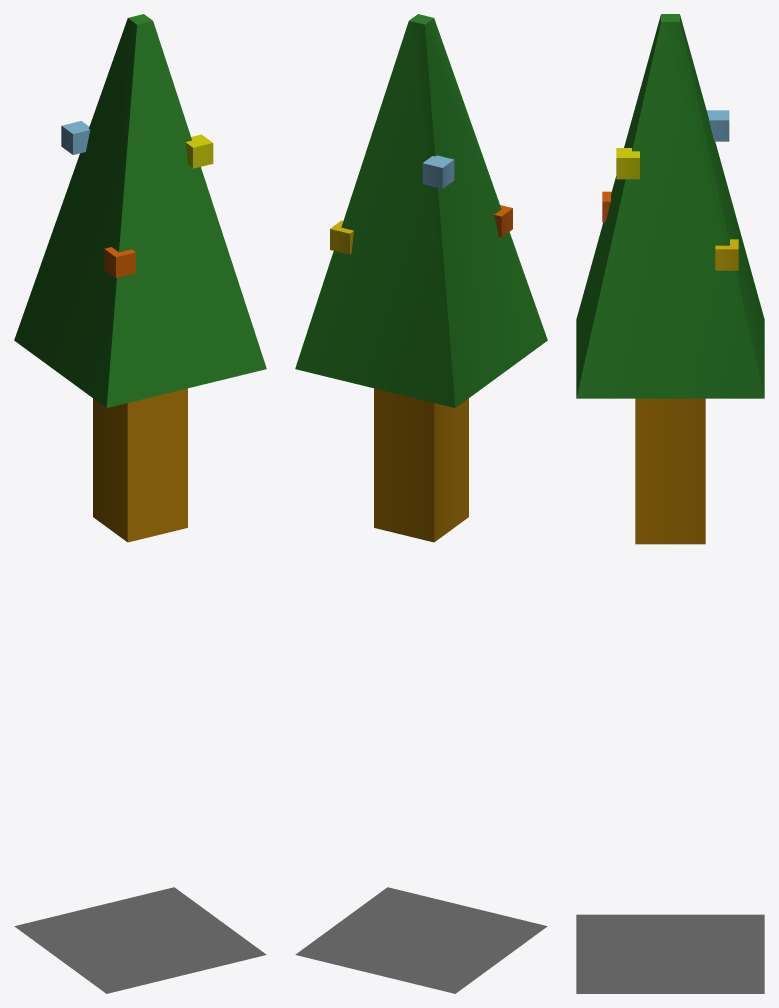
Rendered from pine-tree.glb.
3 renders of one model, left to right at view 1: azimuth 30°, elevation 25°; view 2: azimuth 150°, elevation 25°; view 3: azimuth 270°, elevation 25°, orthographic.
Visible parts, largest first — view 1: pine-crown, pine-shadow, pine-trunk, pine-lights; view 2: pine-crown, pine-shadow, pine-trunk, pine-lights; view 3: pine-crown, pine-shadow, pine-trunk, pine-lights.
Part boxes in pixels (x1,y1,x2,y2): pine-crown: [14, 14, 266, 407]; pine-shadow: [14, 887, 266, 993]; pine-trunk: [93, 388, 187, 542]; pine-lights: [61, 121, 213, 277]; pine-crown: [295, 14, 547, 407]; pine-shadow: [295, 887, 547, 993]; pine-trunk: [374, 388, 468, 542]; pine-lights: [330, 155, 512, 254]; pine-crown: [576, 14, 764, 398]; pine-shadow: [576, 914, 764, 993]; pine-trunk: [635, 398, 705, 544]; pine-lights: [602, 110, 738, 270].
Size of the model in its own units: 0.4 by 2.2 by 0.4.
